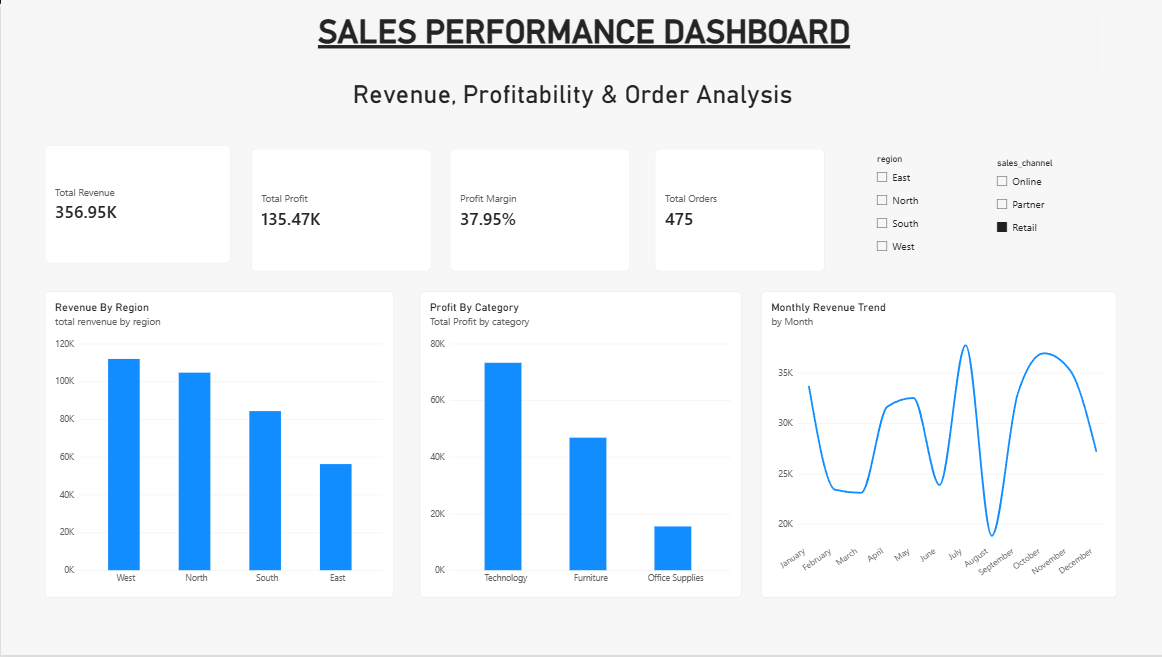

Layout of this report page (visuals, bound fields, positions):
{"tool":"powerbi","page":{"name":"Page 1","canvas":[1920,1080],"ordinal":0},"visuals":[{"type":"cardVisual","fields":{"Data":["sales_portfolio sales_data.Measure 3"]},"box":[411.4,245.5,297.7,202.3],"z":0},{"type":"cardVisual","fields":{"Data":["Sum(sales_portfolio sales_data.revenue)"]},"box":[72.7,238.6,306.8,195.5],"z":1000},{"type":"cardVisual","fields":{"Data":["Count(sales_portfolio sales_data.order_id)"]},"box":[1077.3,245.5,280,202],"z":2000},{"type":"cardVisual","fields":{"Data":["sales_portfolio sales_data.Measure 5"]},"box":[738.6,245.5,297.7,202.3],"z":3000},{"type":"textbox","title":"SALES PERFORMANCE DASHBOARD","box":[111.4,20.5,1697.7,109.1],"z":4000},{"type":"textbox","title":"Revenue, Profitability & Order Analysis","box":[104.5,129.5,1672.7,109.1],"z":5000},{"type":"clusteredColumnChart","title":"Revenue By Region","fields":{"Category":["sales_portfolio sales_data.region"],"Y":["sales_portfolio sales_data.total renvenue"]},"box":[72.7,479.5,575,504.5],"z":6000},{"type":"clusteredColumnChart","title":"Profit By Category","fields":{"Category":["sales_portfolio sales_data.category"],"Y":["sales_portfolio sales_data.Total Profit"]},"box":[688.6,479.5,529.5,504.5],"z":7000},{"type":"lineChart","fields":{"Category":["sales_portfolio sales_data.order_date.Variation.Date Hierarchy.Month"],"Y":["Sum(sales_portfolio sales_data.revenue)"]},"box":[1252.3,479.5,586.4,504.5],"z":8000},{"type":"slicer","fields":{"Values":["sales_portfolio sales_data.region"]},"box":[1433.6,253.6,172.7,172.7],"z":9000},{"type":"slicer","fields":{"Values":["sales_portfolio sales_data.sales_channel"]},"box":[1631.8,259.1,145.5,172.7],"z":10000}]}

Visuals, with their boxes in screenshot pixels (x1, y1, x2, y2), scaled from the page's 1920x1080 canvas onto the 1162x657 screenshot:
cardVisual - sales_portfolio sales_data.Measure 3: bbox=[249, 149, 429, 272]
cardVisual - Sum(sales_portfolio sales_data.revenue): bbox=[44, 145, 230, 264]
cardVisual - Count(sales_portfolio sales_data.order_id): bbox=[652, 149, 821, 272]
cardVisual - sales_portfolio sales_data.Measure 5: bbox=[447, 149, 627, 272]
"SALES PERFORMANCE DASHBOARD" textbox: bbox=[67, 12, 1095, 79]
"Revenue, Profitability & Order Analysis" textbox: bbox=[63, 79, 1076, 145]
"Revenue By Region" clusteredColumnChart: bbox=[44, 292, 392, 599]
"Profit By Category" clusteredColumnChart: bbox=[417, 292, 737, 599]
lineChart - sales_portfolio sales_data.order_date.Variation.Date Hierarchy.Month x Sum(sales_portfolio sales_data.revenue): bbox=[758, 292, 1113, 599]
slicer - sales_portfolio sales_data.region: bbox=[868, 154, 972, 259]
slicer - sales_portfolio sales_data.sales_channel: bbox=[988, 158, 1076, 263]
